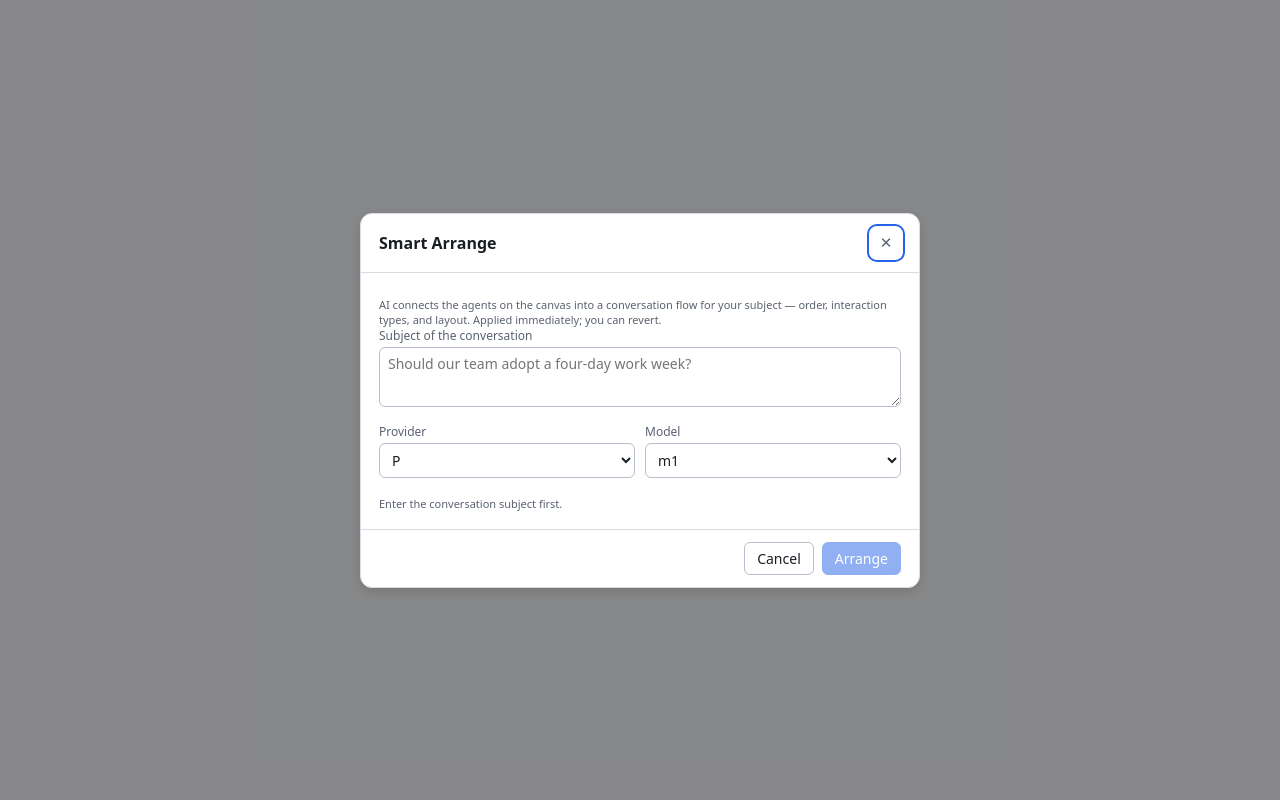
Test: SmartArrangeModal › shows an error with the raw response when the reply is not an arrangement
The width and height of the screenshot is (1280, 800).
Type "Should we ship?" into the text box labelled "Subject of the conversation" at (640, 376), box [379,346,901,406]
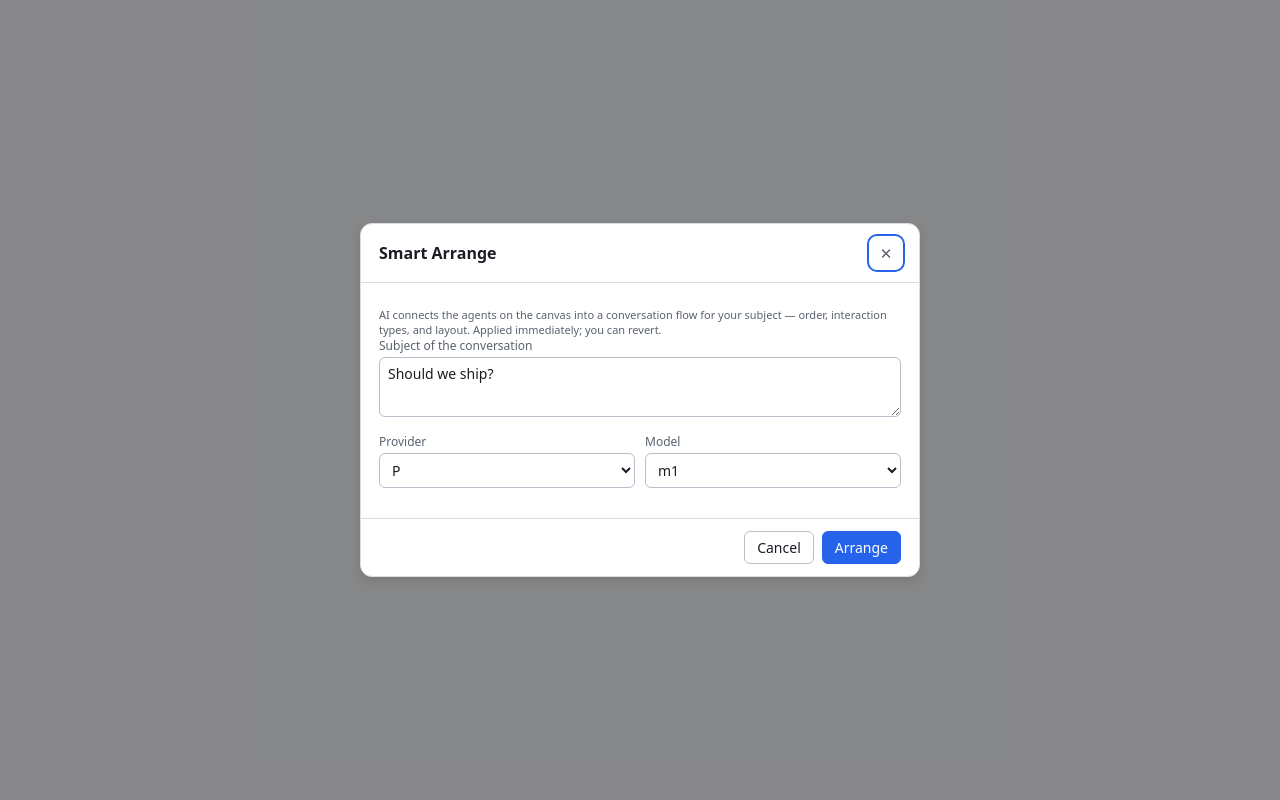
Click the button "Arrange" at (861, 548), box [822,531,901,564]
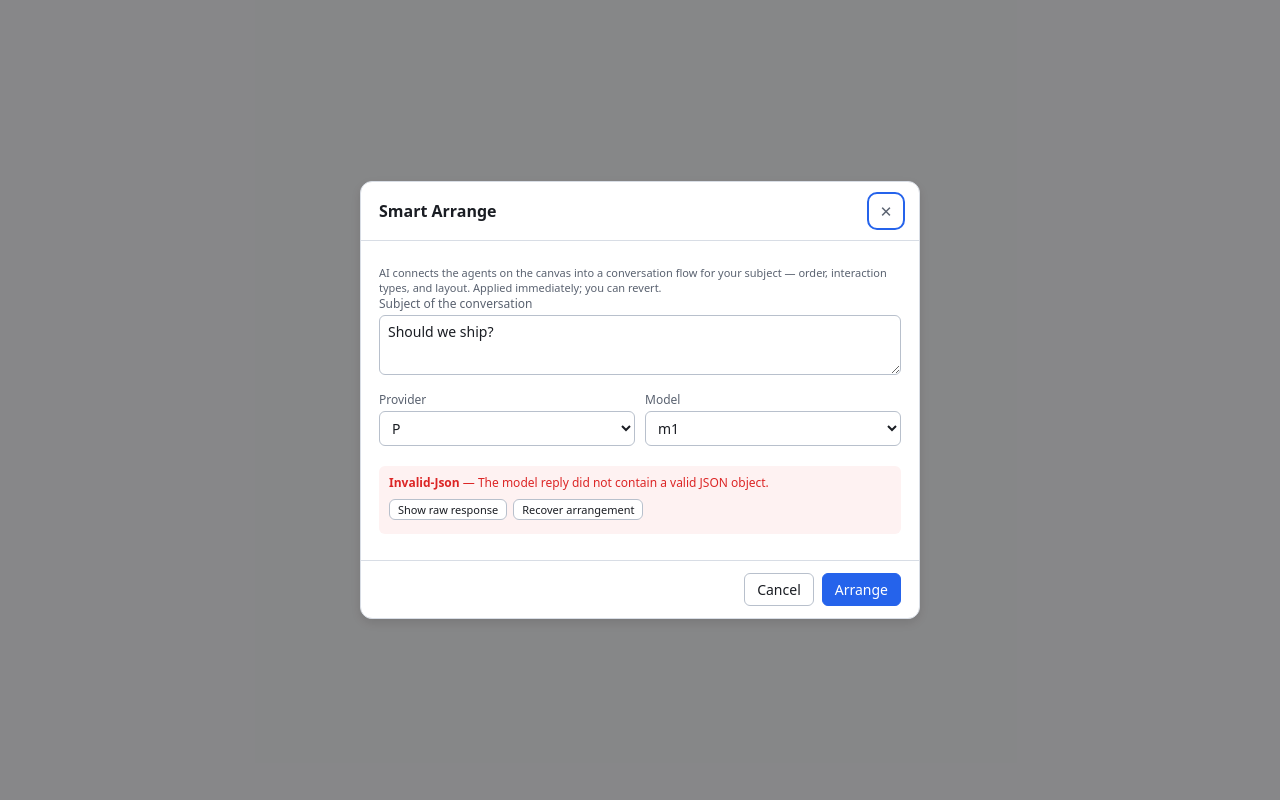
Result: the text "invalid-json" is shown at [389,474,460,491]
Click the button "Show raw response" at (448, 510), box [389,499,507,520]
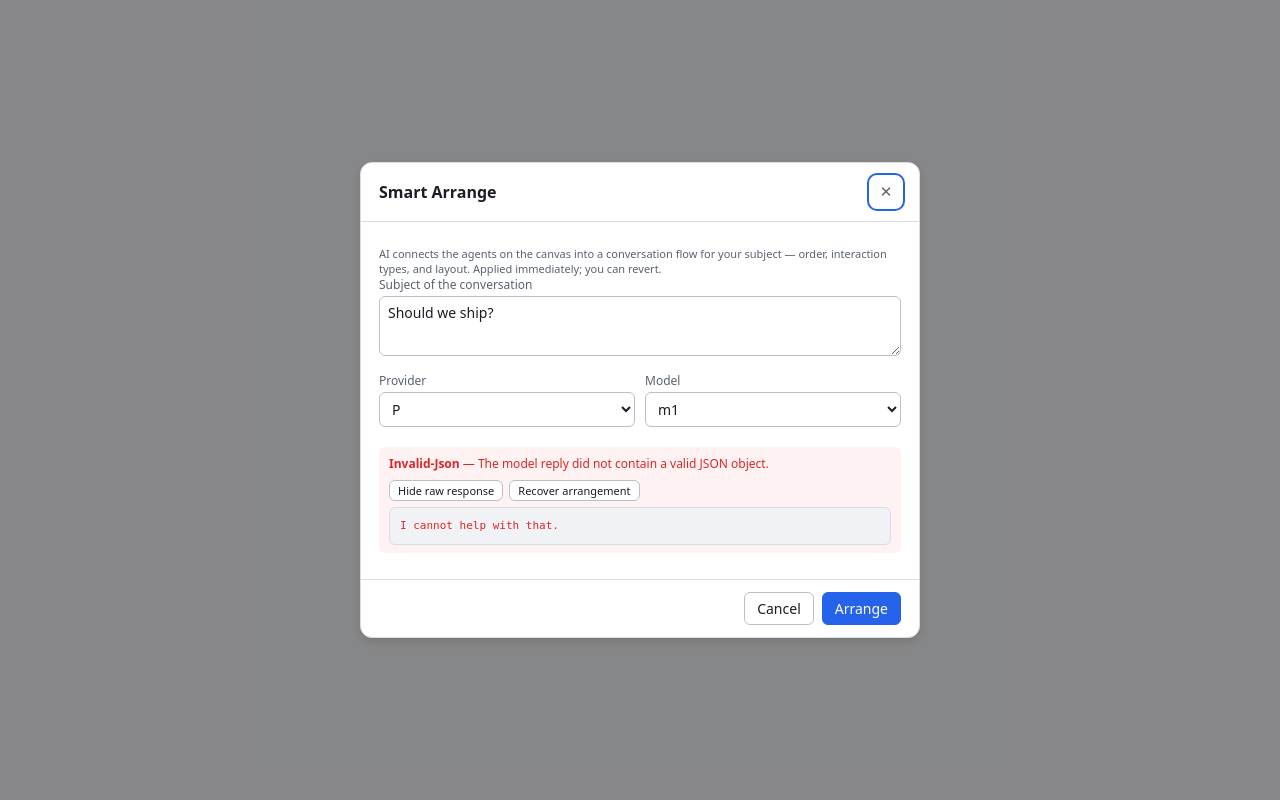
Result: the text "I cannot help with that." is shown at [389,507,891,545]
